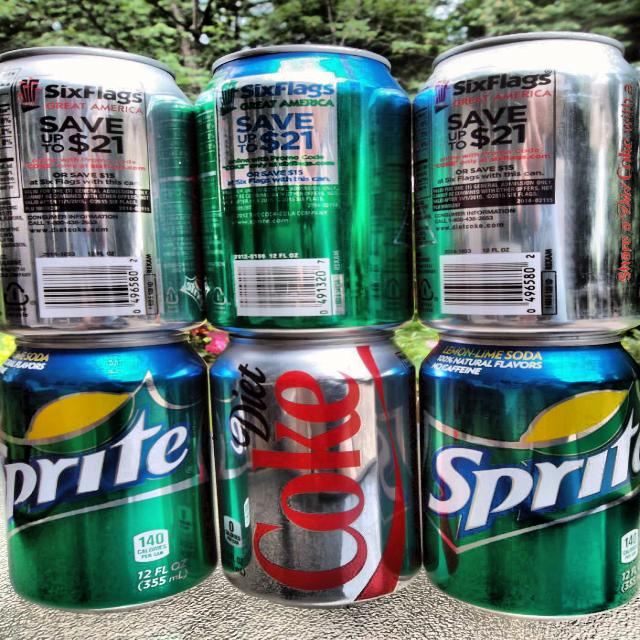Cans: (413, 29, 640, 349), (404, 322, 640, 625), (190, 36, 423, 338), (0, 319, 221, 612), (212, 320, 424, 622), (0, 25, 198, 334)
